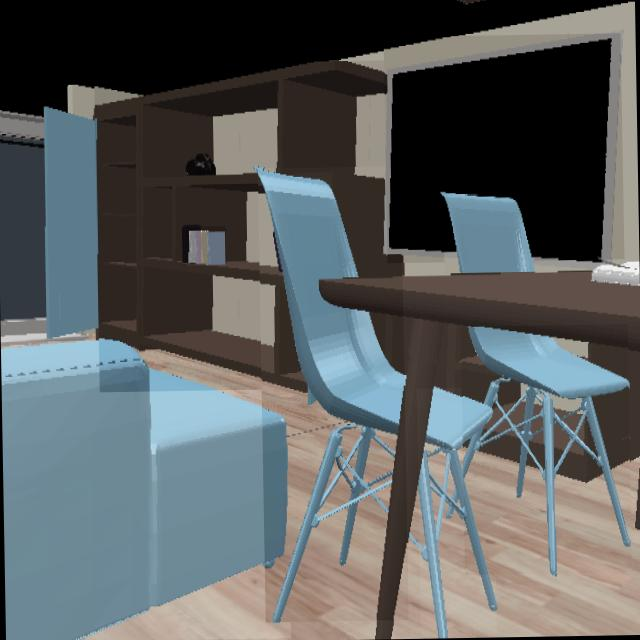book: (182, 227, 226, 265)
chair: (258, 170, 404, 622), (464, 327, 630, 572), (418, 388, 496, 636), (443, 195, 534, 274)
monitor: (386, 33, 621, 258)
shelf: (96, 61, 401, 387)
sofa: (1, 340, 288, 640)
